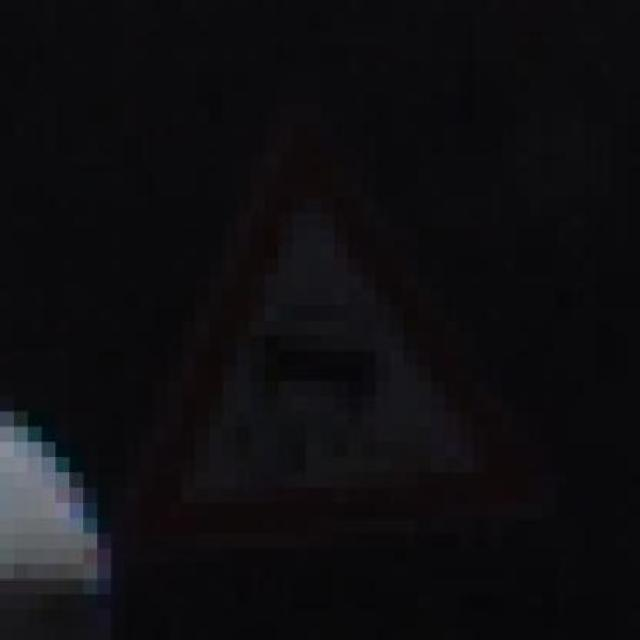Slippery Road Ahead: (69, 122, 543, 549)
